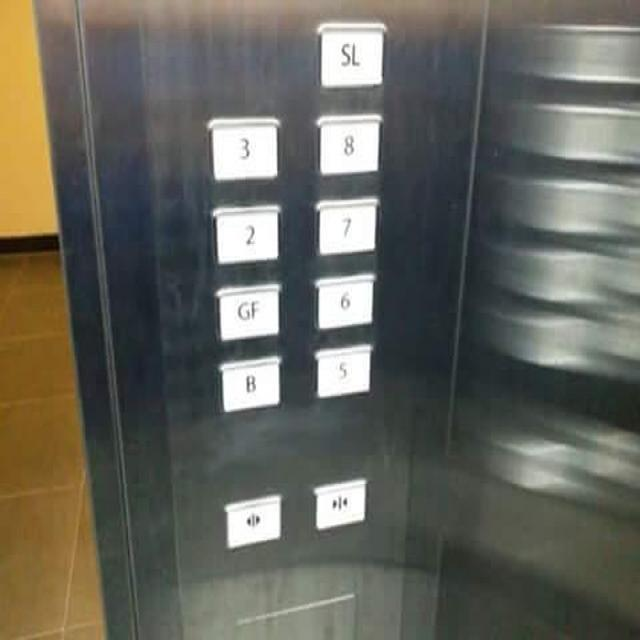2: (210, 199, 282, 269)
3: (205, 113, 284, 183)
5: (310, 340, 374, 400)
6: (311, 269, 378, 332)
7: (312, 193, 378, 259)
8: (314, 109, 383, 179)
B: (215, 353, 284, 415)
GF: (213, 278, 286, 346)
SL: (316, 17, 386, 92)
close: (311, 473, 367, 535)
open: (223, 491, 282, 553)
